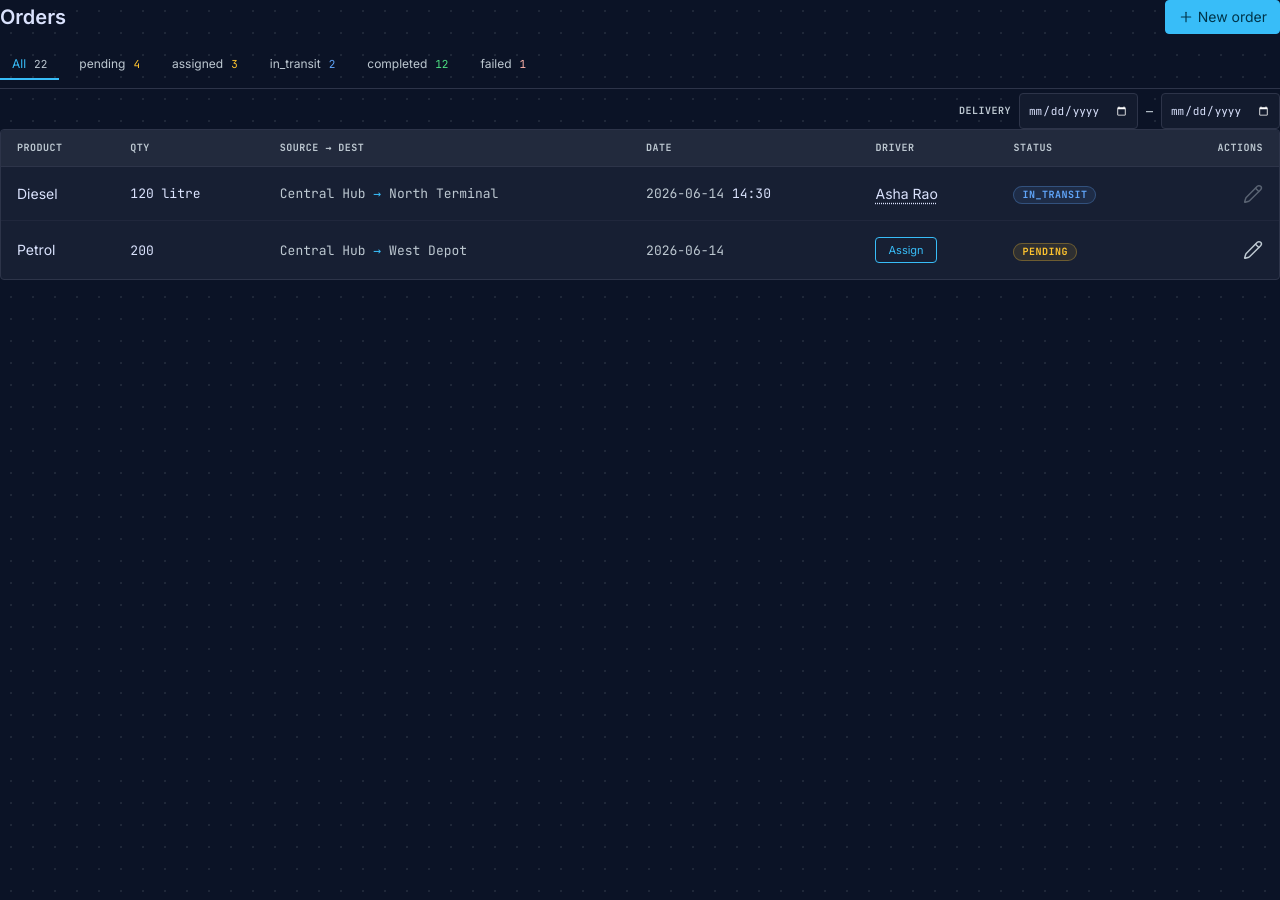
Scenario: Orders page › creates an order
Expected: the text "Asha Rao" is shown, [876,184,938,202]
Click the button "New order": (1222, 17) [1165,0,1279,34]
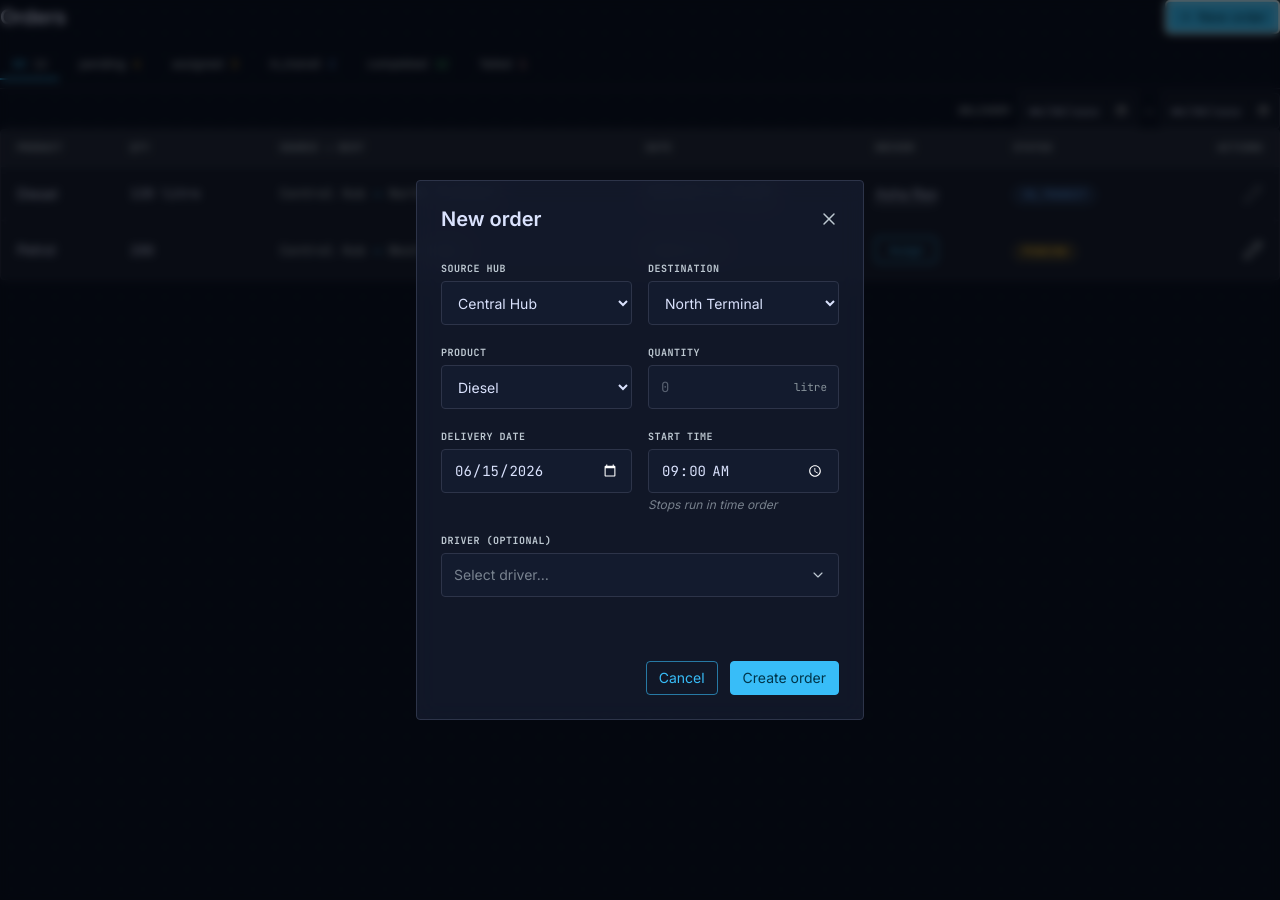
Result: the heading "New order" is shown at [441,205,542,233]
Result: the text "litre" is shown at [794,379,827,395]
In the number field labelled "Quantity": (744, 387) [648,365,839,409], type "150"
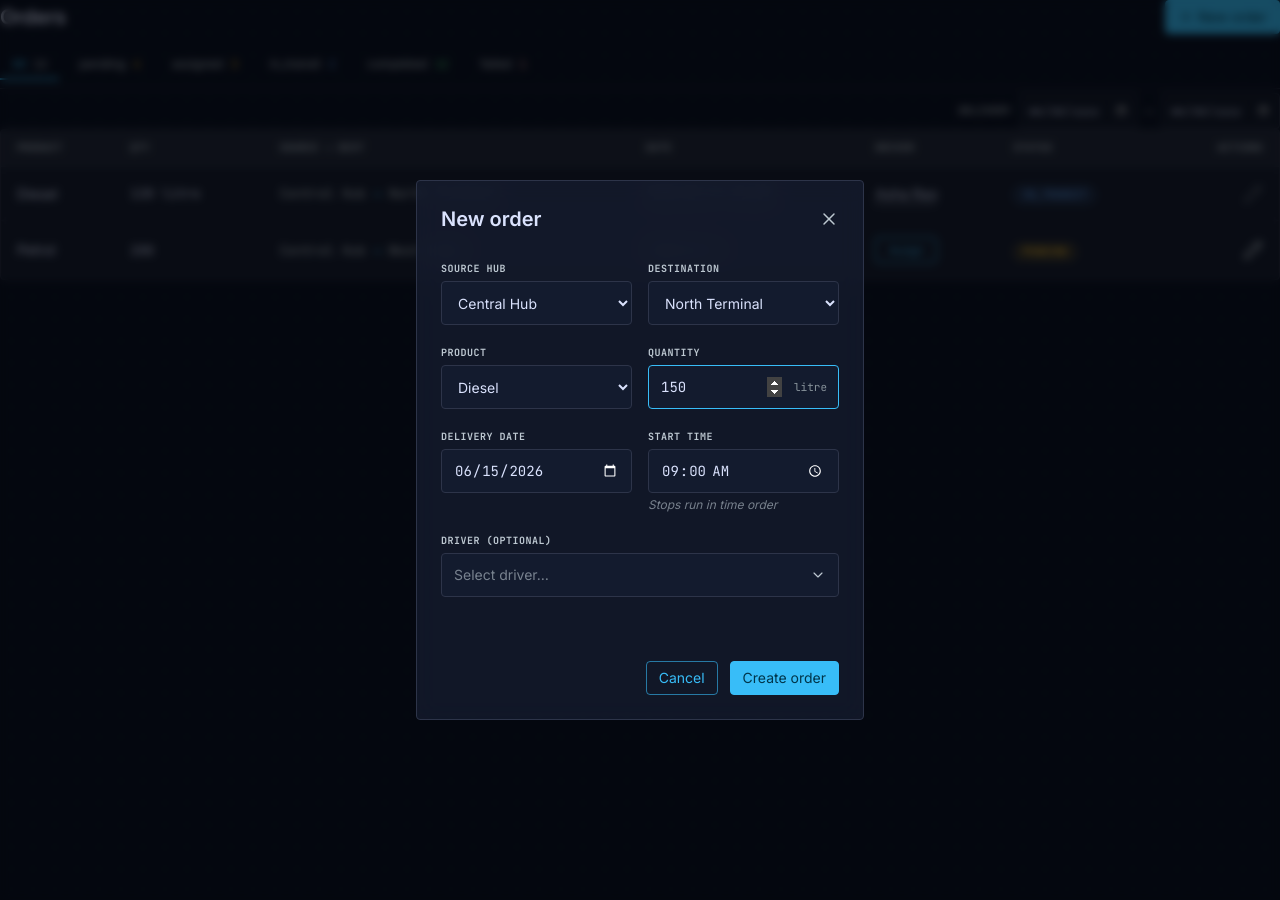
Click the button "Create order": (784, 678) [730,661,839,695]
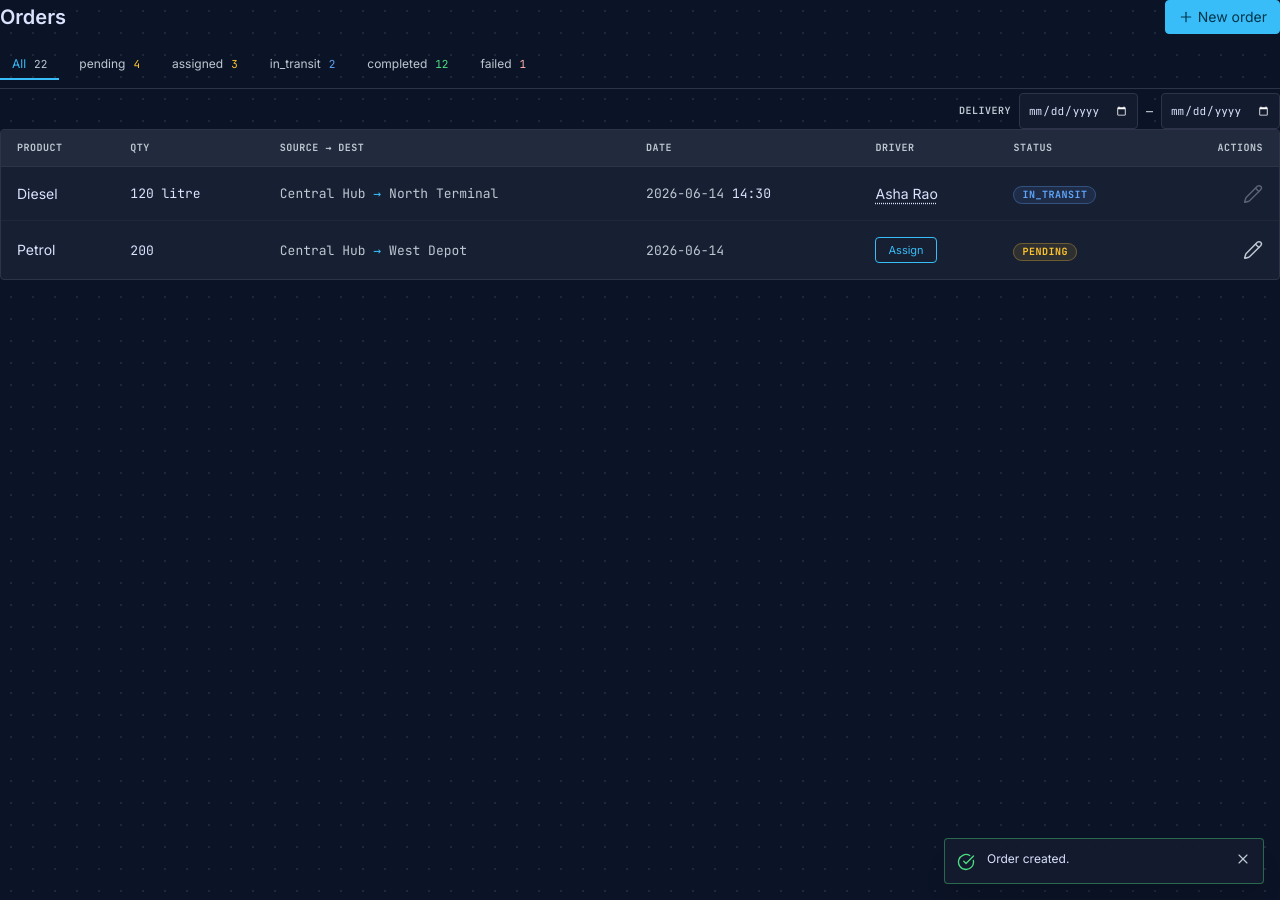
Result: the text "Order created." is shown at [987,851,1069,866]
